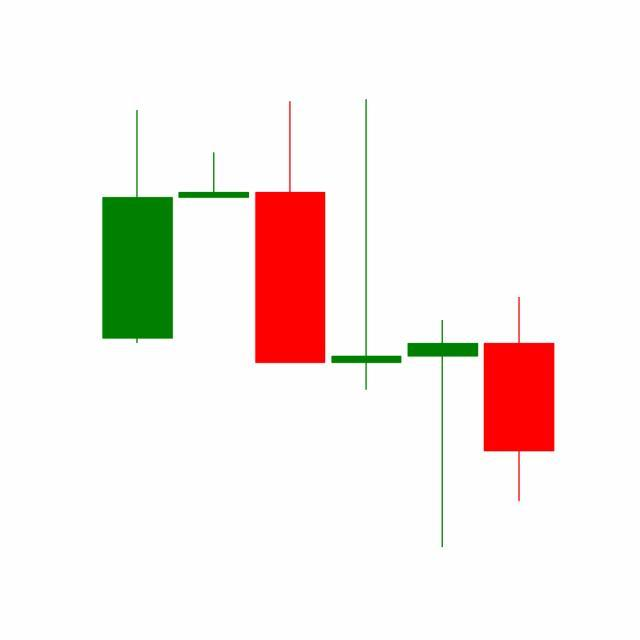Spinning Top: (404, 317, 482, 551)
